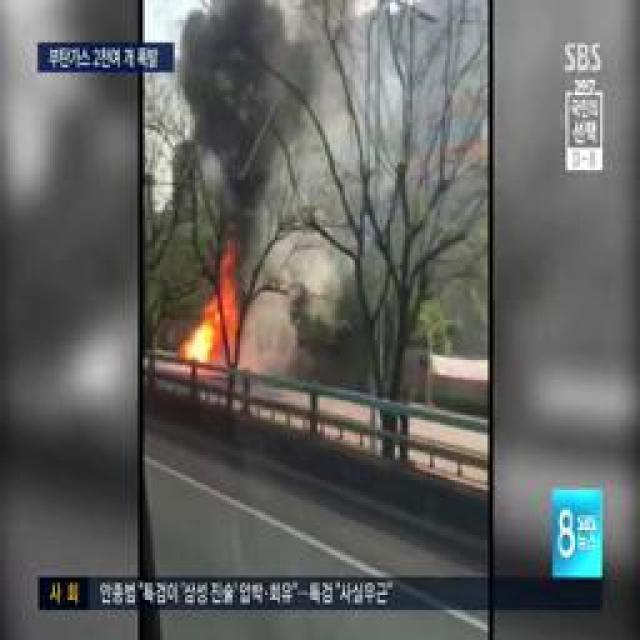Fire: (187, 260, 239, 362)
